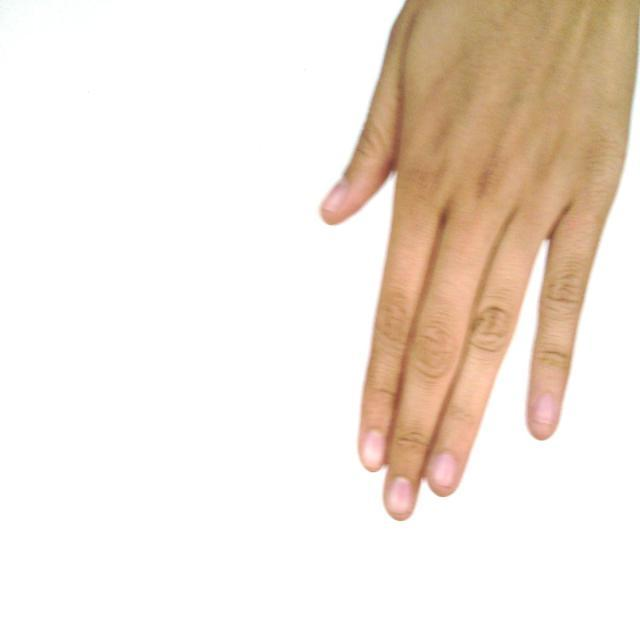Fingernail: (389, 478, 413, 512), (432, 454, 457, 486), (364, 432, 384, 468), (323, 181, 346, 210), (535, 395, 557, 423)
